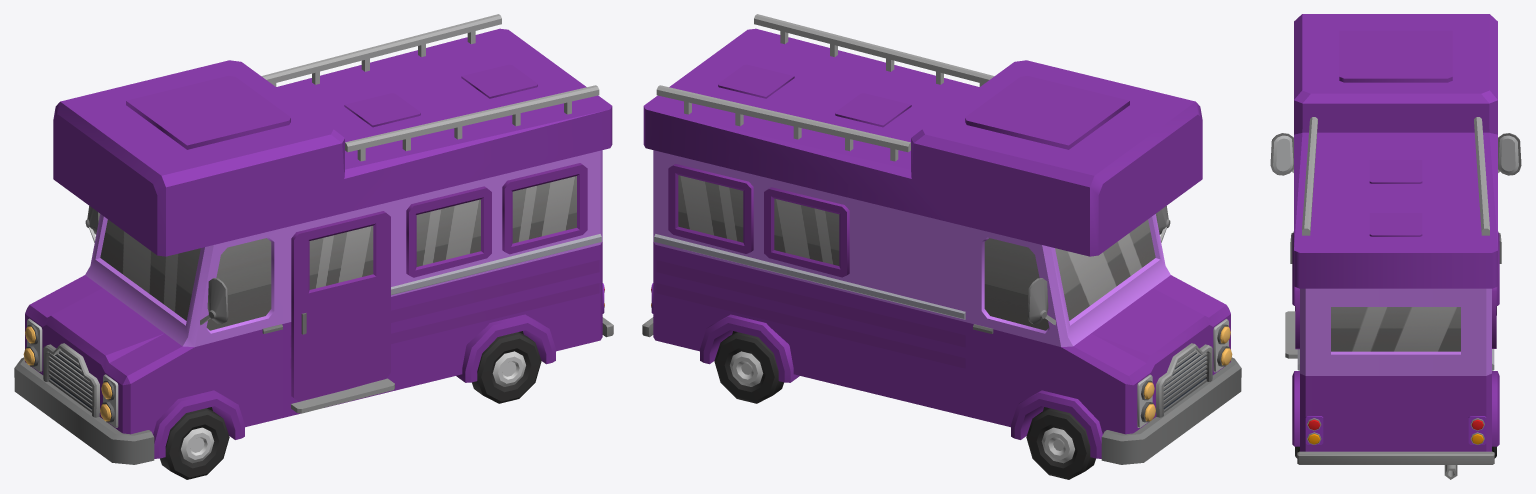
File: RVCar_F.gltf
The picture shows the model from 3 angles, left to right: view 1: azimuth 30°, elevation 25°; view 2: azimuth 150°, elevation 25°; view 3: azimuth 270°, elevation 25°; orthographic projection. The views are drawn at different scales.
Parts seen in each view (by area): view 1: RVCar_F, RL, FL; view 2: RVCar_F, RR, FR; view 3: RVCar_F.
Boxes of the visible parts, x1,y1,x2,y2 form: RVCar_F: (14, 14, 613, 464); RL: (472, 332, 541, 403); FL: (160, 408, 229, 479); RVCar_F: (642, 14, 1241, 464); RR: (714, 332, 783, 403); FR: (1026, 408, 1095, 479); RVCar_F: (1270, 14, 1521, 479).
Bounding box in the file's own units: 4.14 × 2.46 × 1.94.
Materials: 4 (4 with a texture image).
